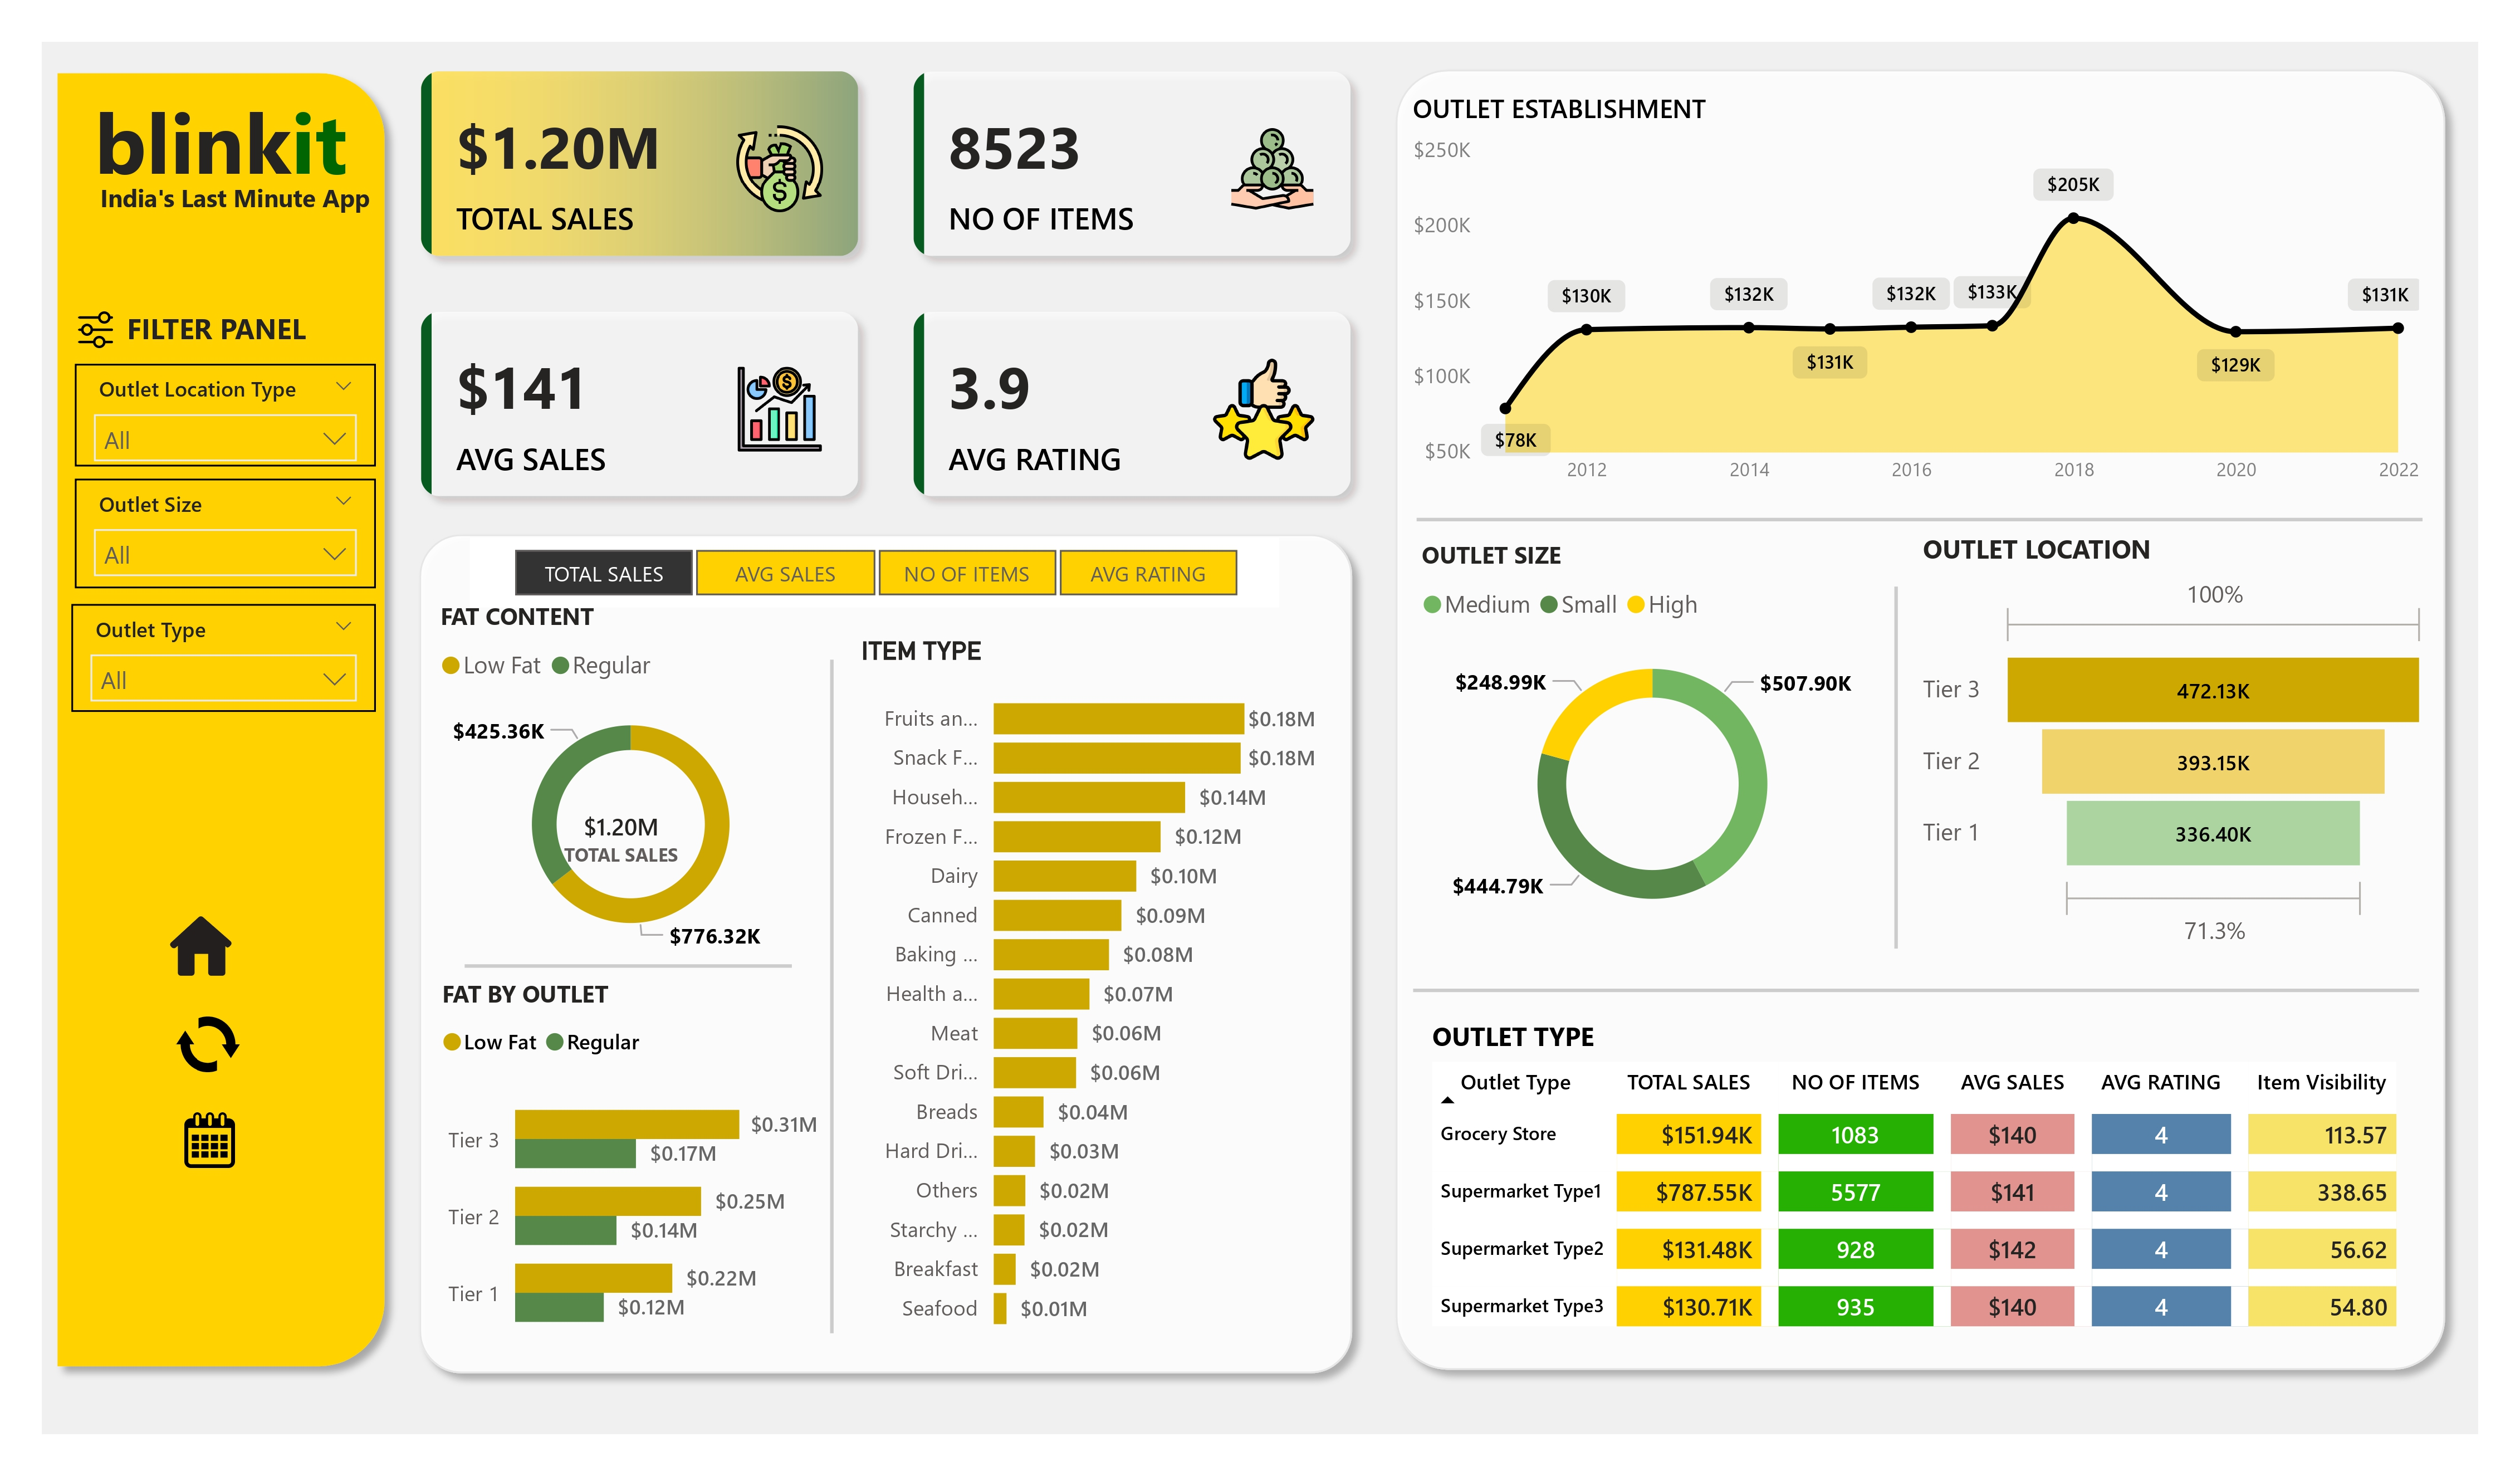

The page's visual inventory and layout, read from the dashboard file:
{"tool":"powerbi","page":{"name":"Page 1","canvas":[1400,800],"ordinal":0},"visuals":[{"type":"shape","box":[0,8.7,206.1,761.6],"z":0},{"type":"textbox","box":[14,19.2,178.2,78.6],"z":1000},{"type":"textbox","box":[12.2,75.1,197.4,50.7],"z":2000},{"type":"cardVisual","fields":{"Data":["BlinkIT Grocery Data.Total Sales","BlinkIT Grocery Data.No of Items","BlinkIT Grocery Data.Avg Sales","BlinkIT Grocery Data.Avg Rating"]},"box":[200.9,0,569.4,279.5],"z":3000},{"type":"shape","box":[207.9,274.2,553.7,499.6],"z":4000},{"type":"slicer","fields":{"Values":["Metrics.Metrics"]},"box":[246.3,284.7,465,40],"z":5000},{"type":"donutChart","title":"FAT CONTENT","fields":{"Y":["BlinkIT Grocery Data.TOTAL SALES"],"Category":["BlinkIT Grocery Data.Item Fat Content"]},"box":[223.6,321.4,228.8,211.4],"z":6000},{"type":"cardVisual","fields":{"Data":["BlinkIT Grocery Data.TOTAL SALES"]},"box":[275,425,116.7,65],"z":7000},{"type":"clusteredBarChart","title":"FAT BY OUTLET","fields":{"Y":["BlinkIT Grocery Data.TOTAL SALES"],"Category":["BlinkIT Grocery Data.Outlet Location Type"],"Series":["BlinkIT Grocery Data.Item Fat Content"]},"box":[225.3,538,225.3,221.8],"z":8000},{"type":"shape","box":[242.8,501.3,188.6,59.4],"z":9000},{"type":"shape","box":[433.2,354.6,41.9,387.8],"z":10000},{"type":"barChart","title":"ITEM TYPE","fields":{"Y":["BlinkIT Grocery Data.TOTAL SALES"],"Category":["BlinkIT Grocery Data.Item Type"]},"box":[466.4,342.4,270.7,408.7],"z":11000},{"type":"shape","box":[768.6,7,621.8,765.1],"z":12000},{"type":"lineChart","title":"OUTLET ESTABLISHMENT","fields":{"Y":["BlinkIT Grocery Data.TOTAL SALES"],"Category":["BlinkIT Grocery Data.Outlet Establishment Year"]},"box":[782.5,27.9,588.6,235.8],"z":13000},{"type":"shape","box":[789.5,244.5,578.2,59.4],"z":14000},{"type":"donutChart","title":"OUTLET SIZE","fields":{"Y":["BlinkIT Grocery Data.TOTAL SALES"],"Category":["BlinkIT Grocery Data.Outlet Size"]},"box":[787.8,286.5,275,235],"z":15000},{"type":"shape","box":[1044.5,312.7,41.9,207.9],"z":16000},{"type":"funnel","title":"OUTLET LOCATION","fields":{"Y":["Sum(BlinkIT Grocery Data.Sales)"],"Category":["BlinkIT Grocery Data.Outlet Location Type"]},"box":[1076,281.2,300.4,244.5],"z":17000},{"type":"shape","box":[787.6,515.2,578.2,59.4],"z":18000},{"type":"pivotTable","title":"OUTLET TYPE","fields":{"Rows":["BlinkIT Grocery Data.Outlet Type"],"Values":["BlinkIT Grocery Data.TOTAL SALES","BlinkIT Grocery Data.NO OF ITEMS","BlinkIT Grocery Data.AVG SALES","BlinkIT Grocery Data.AVG RATING","Sum(BlinkIT Grocery Data.Item Visibility)"]},"box":[793.9,560.7,606.1,204.4],"z":19000},{"type":"slicer","fields":{"Values":["BlinkIT Grocery Data.Outlet Location Type"]},"box":[18.8,185,173.1,59.4],"z":19001},{"type":"textbox","box":[44.3,148.7,147,40.4],"z":19002},{"type":"image","box":[13.5,150,35.2,31.3],"z":19003},{"type":"slicer","fields":{"Values":["BlinkIT Grocery Data.Outlet Size"]},"box":[18.8,251.2,173.1,63.1],"z":19004},{"type":"slicer","fields":{"Values":["BlinkIT Grocery Data.Outlet Type"]},"box":[16.9,323.1,175,61.9],"z":19005},{"type":"image","box":[73.4,609.6,45.4,41.9],"z":19007},{"type":"image","box":[54.1,490.8,75.1,57.6],"z":19008},{"type":"image","box":[71.6,553.7,47.2,43.7],"z":19009}]}

Visuals, with their boxes in screenshot pixels (x1, y1, x2, y2):
shape: 42/57/400/1382
textbox: 66/75/376/212
textbox: 63/173/407/261
cardVisual - BlinkIT Grocery Data.Total Sales x BlinkIT Grocery Data.No of Items: 392/42/1382/528
shape: 404/519/1367/1389
slicer - Metrics.Metrics: 471/537/1280/607
"FAT CONTENT" donutChart: 431/601/829/969
cardVisual - BlinkIT Grocery Data.TOTAL SALES: 520/781/723/895
"FAT BY OUTLET" clusteredBarChart: 434/978/826/1364
shape: 464/915/792/1018
shape: 796/659/869/1334
"ITEM TYPE" barChart: 853/638/1324/1349
shape: 1379/54/2462/1386
"OUTLET ESTABLISHMENT" lineChart: 1403/90/2428/501
shape: 1416/467/2422/571
"OUTLET SIZE" donutChart: 1413/540/1891/950
shape: 1860/586/1932/948
"OUTLET LOCATION" funnel: 1915/531/2437/957
shape: 1412/939/2419/1042
"OUTLET TYPE" pivotTable: 1423/1018/2478/1374
slicer - BlinkIT Grocery Data.Outlet Location Type: 75/364/376/467
textbox: 119/301/375/371
image: 65/303/126/358
slicer - BlinkIT Grocery Data.Outlet Size: 75/479/376/589
slicer - BlinkIT Grocery Data.Outlet Type: 71/604/376/712
image: 169/1103/248/1176
image: 136/896/267/996
image: 167/1005/248/1082
